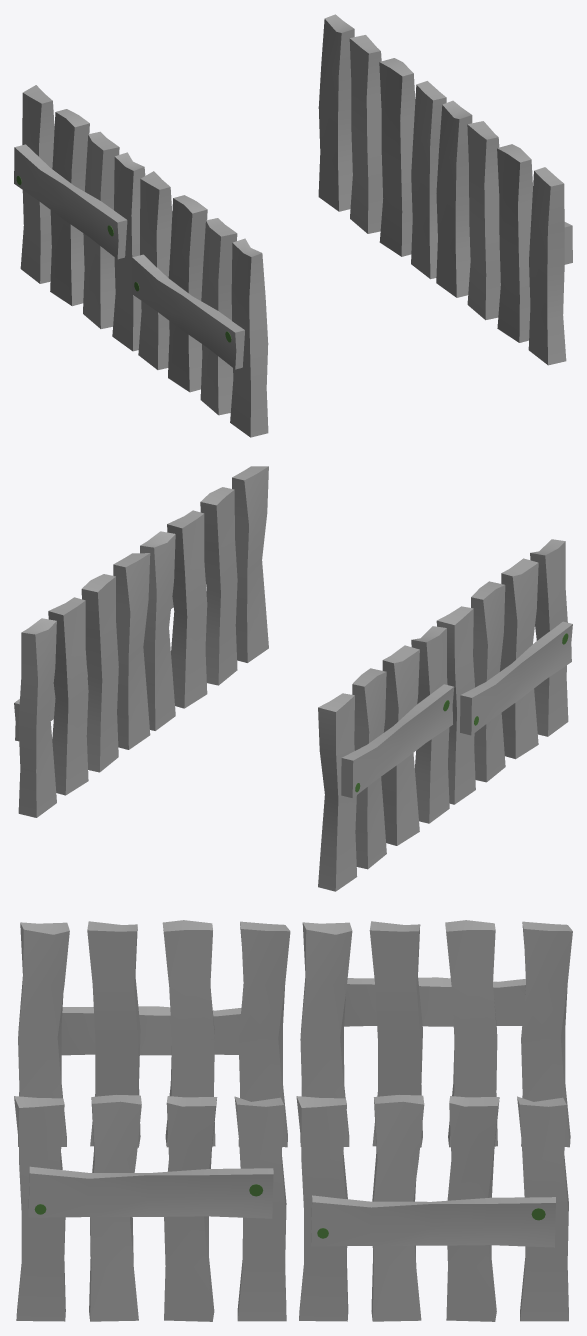
The model's file is VallaCamino.fbx.
3 renders of one model, top to bottom at view 1: azimuth 30°, elevation 25°; view 2: azimuth 150°, elevation 25°; view 3: azimuth 270°, elevation 25°, orthographic. The views are drawn at different scales.
Visible parts, largest first — view 1: pDisc8; view 2: pDisc8; view 3: pDisc8.
Part boxes in pixels (box(x1,y1,x2,y2)): pDisc8: box(14, 14, 572, 437); pDisc8: box(14, 466, 572, 891); pDisc8: box(14, 920, 572, 1321).
Size of the model in its own units: 163 by 83.54 by 194.
